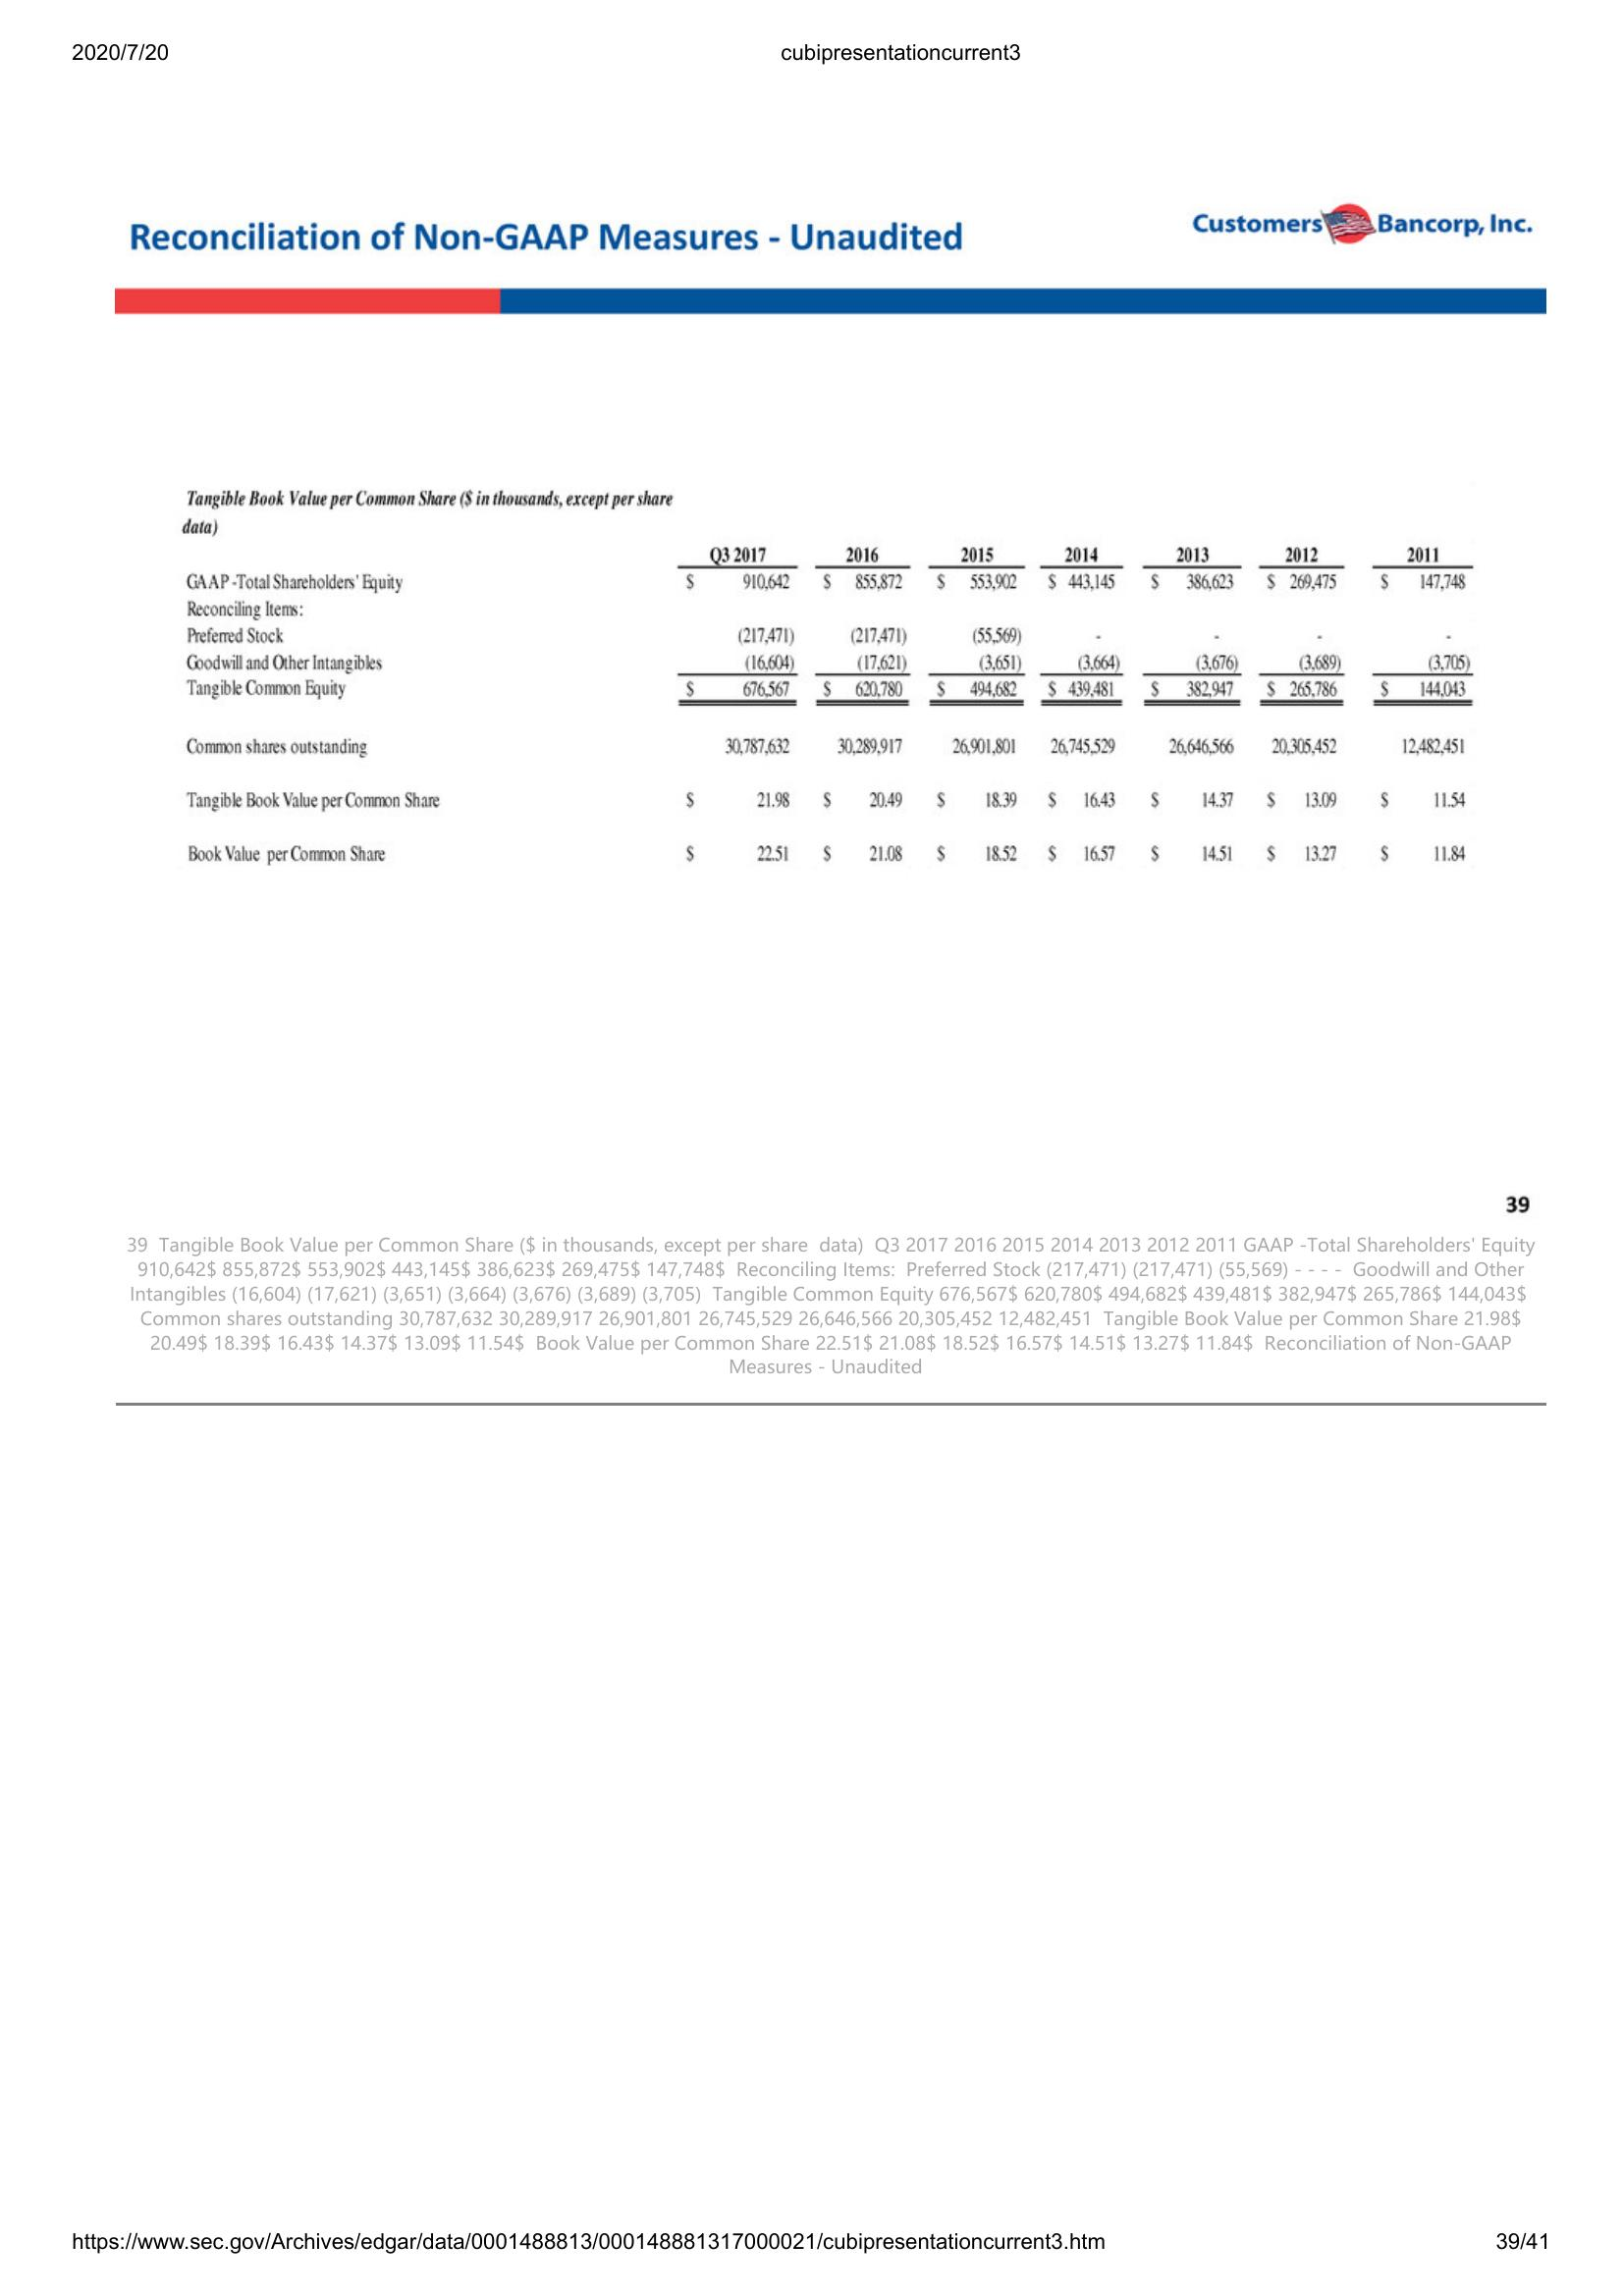table: (169, 474, 1497, 872)
